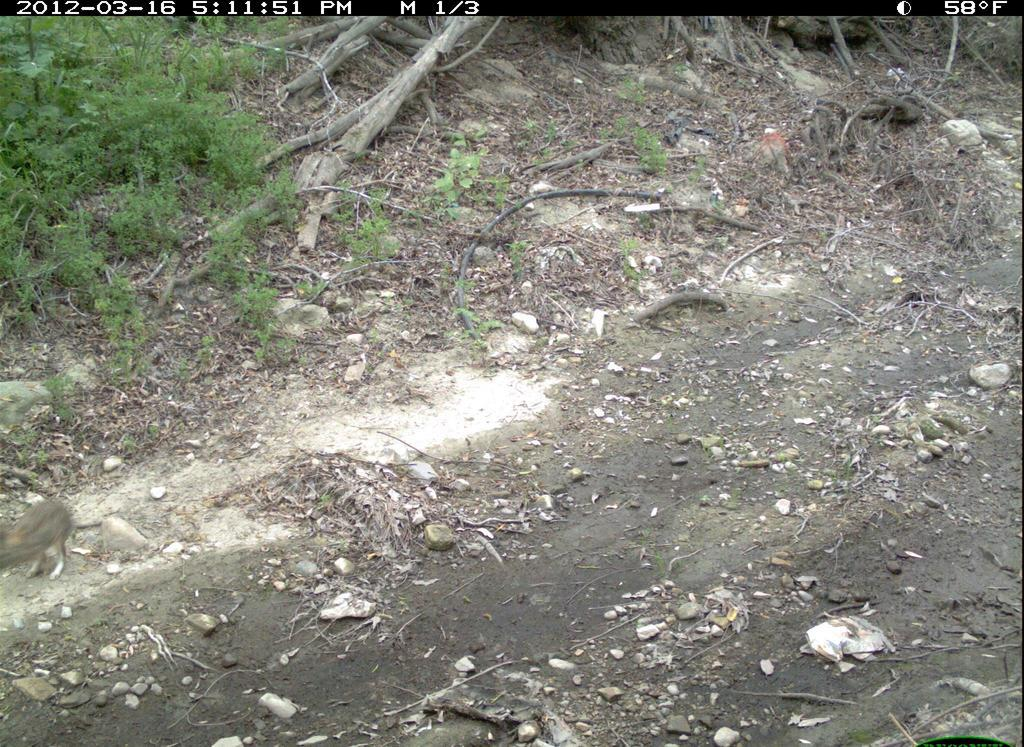rabbit: (4, 487, 89, 591)
